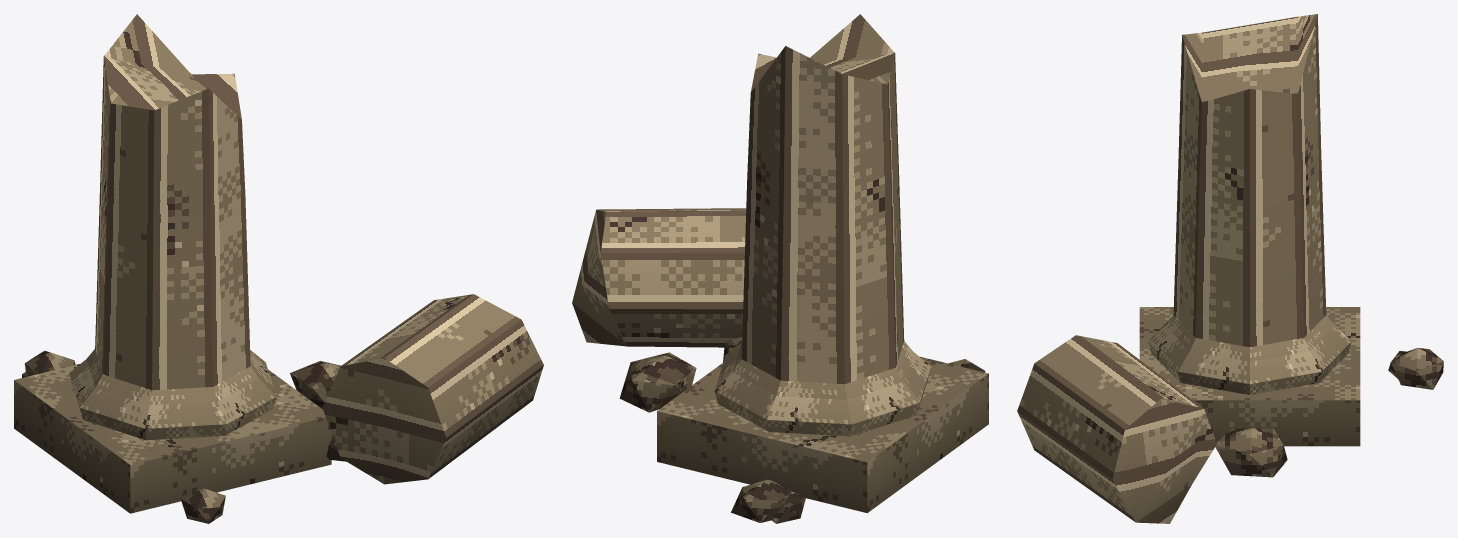
File: pillar_broken.glb
The picture shows the model from 3 angles, left to right: view 1: azimuth 30°, elevation 25°; view 2: azimuth 150°, elevation 25°; view 3: azimuth 270°, elevation 25°; orthographic projection. The views are drawn at different scales.
Visible parts, largest first — view 1: pillar_broken; view 2: pillar_broken; view 3: pillar_broken.
Part boxes in pixels (x1,y1,x2,y2): pillar_broken: [14, 14, 543, 523]; pillar_broken: [572, 14, 988, 523]; pillar_broken: [1017, 14, 1443, 523].
Size of the model in its own units: 2.59 by 2.51 by 2.51.
3 materials, 3 textured.
